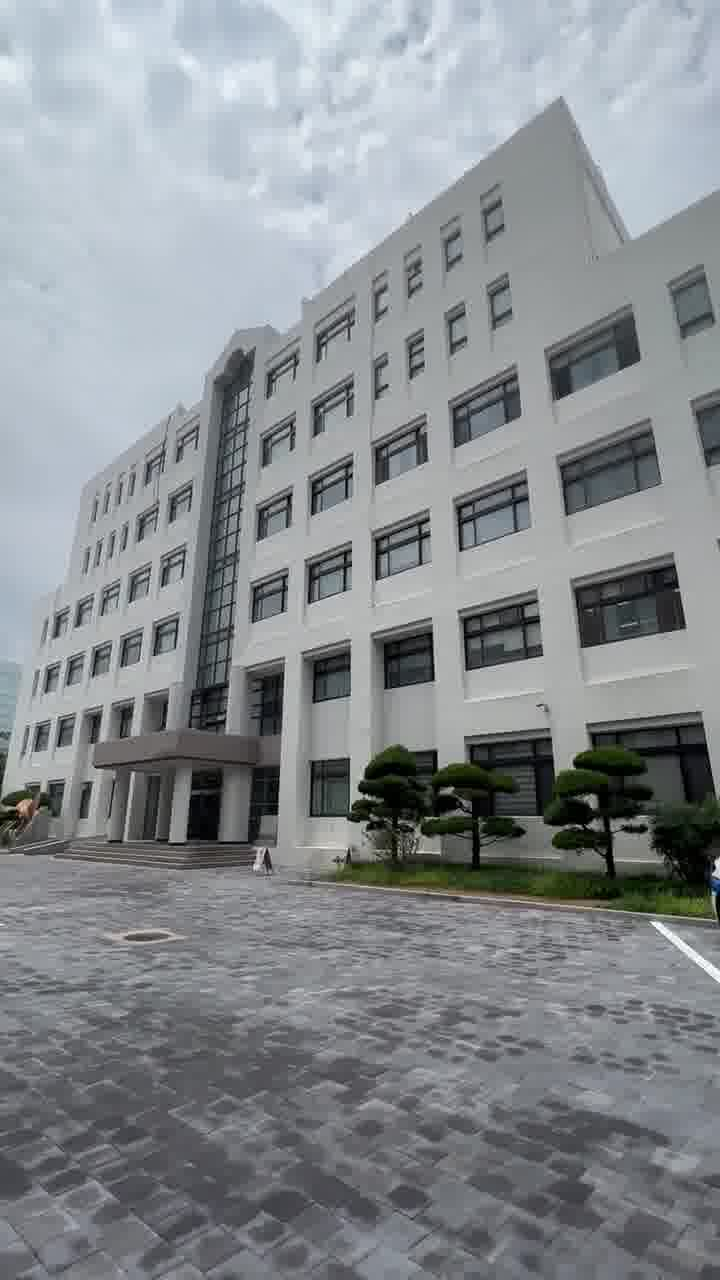medium: (44, 230, 720, 788)
